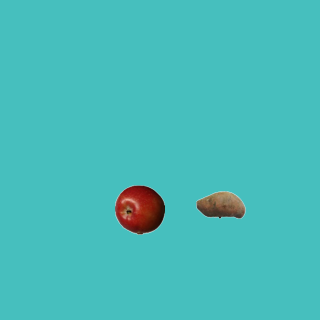Apple Braeburn: (114, 184, 164, 234)
Potato Sweet: (195, 179, 245, 229)
